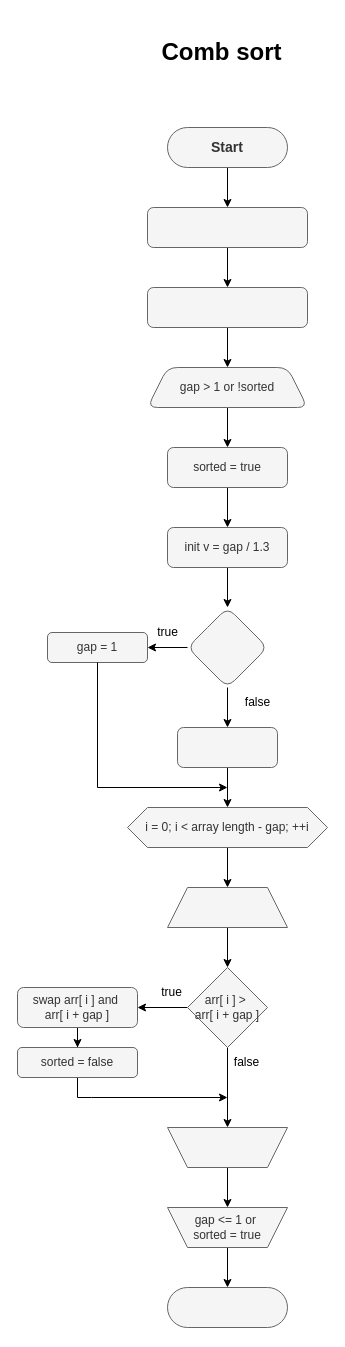
Image size: 345x1347. Some labels were removed from this diagram. The centre of each missing label's shape, as x and y in pixels:
End: [227,1307]
gap = round floor v: [227,747]
init gap = array length: [227,227]
init sorted = false: [227,307]
v < 1: [227,647]
